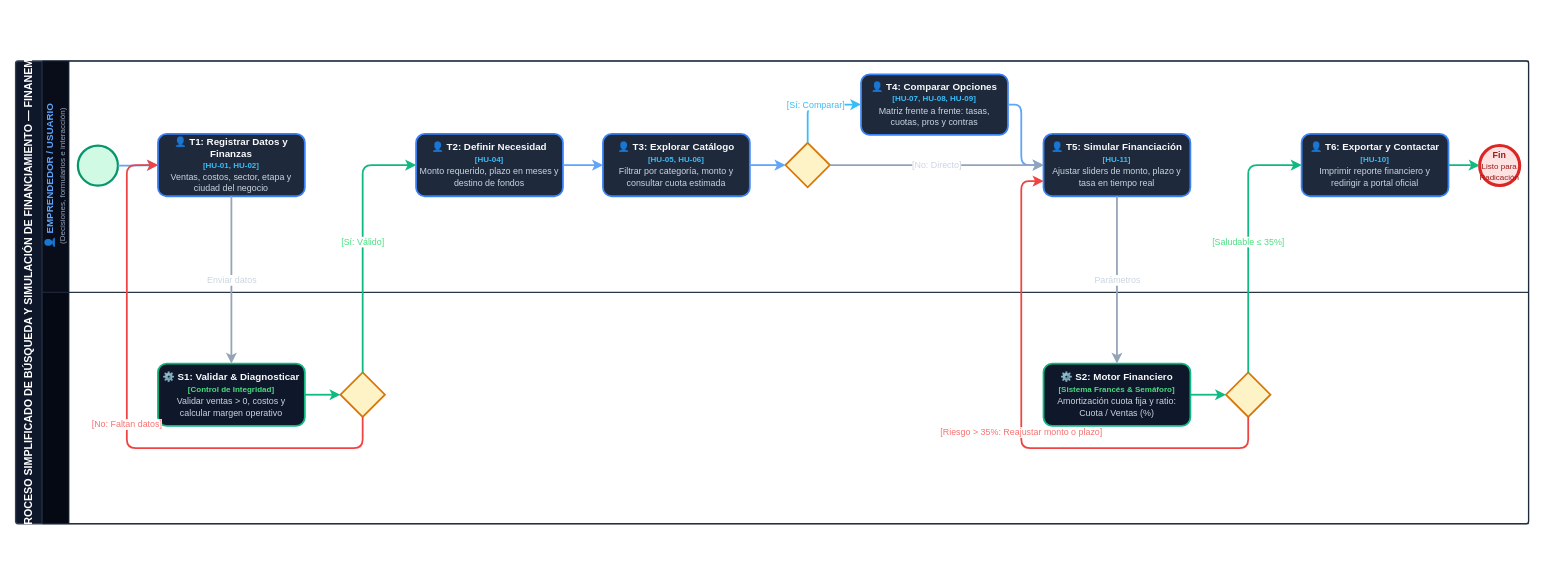
Image size: 1545x585. Some labels were removed from this diagram. Here are the shapes that lost their labels. From the top down, the box of each, then its label:
(76, 144, 119, 186): Inicio Necesidad de Capital
(784, 142, 830, 188): ¿Desea Comparar?
(339, 371, 385, 417): ¿Datos Válidos?
(41, 291, 1529, 524): ⚙️ PLATAFORMA FINANEMPRENDE (Validaciones, amortización y semáforo)
(1225, 371, 1271, 417): ¿Capacidad Viable?
